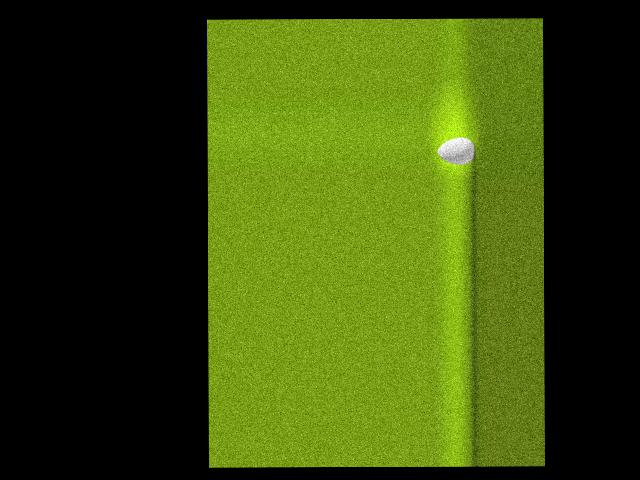egg: (437, 137, 474, 165)
